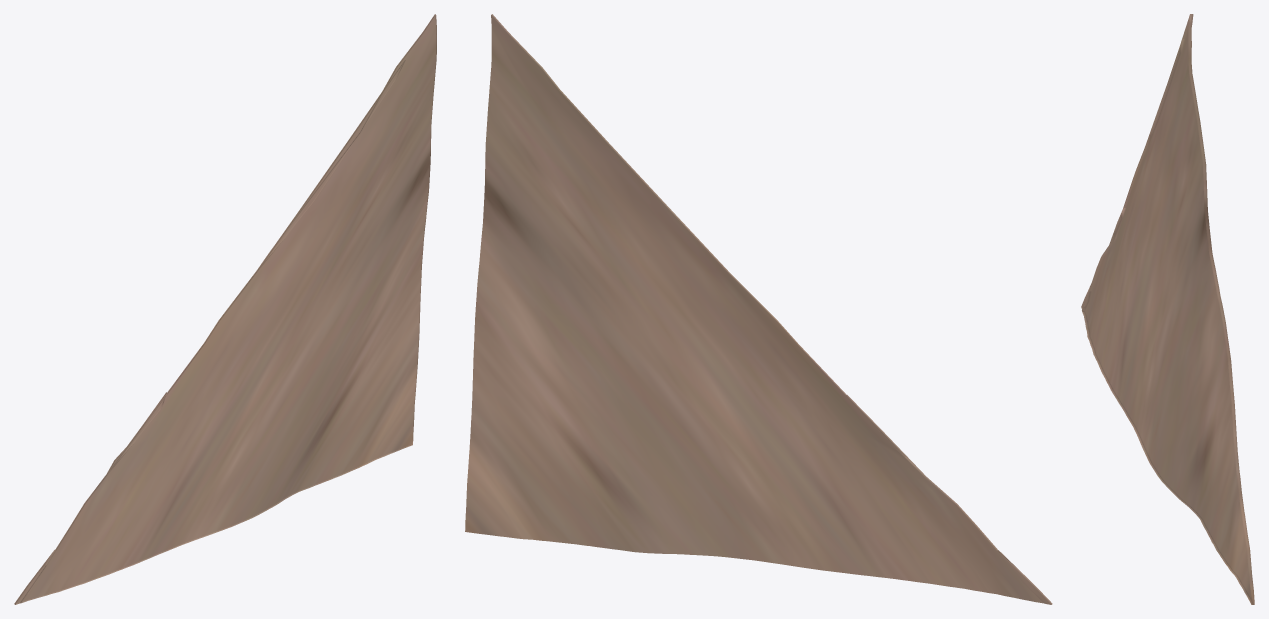
3 renders of one model, left to right at view 1: azimuth 30°, elevation 25°; view 2: azimuth 150°, elevation 25°; view 3: azimuth 270°, elevation 25°, orthographic. The views are drawn at different scales.
Bounding box in the file's own units: 6.75 × 6.24 × 1.66.
1 material, 1 textured.
